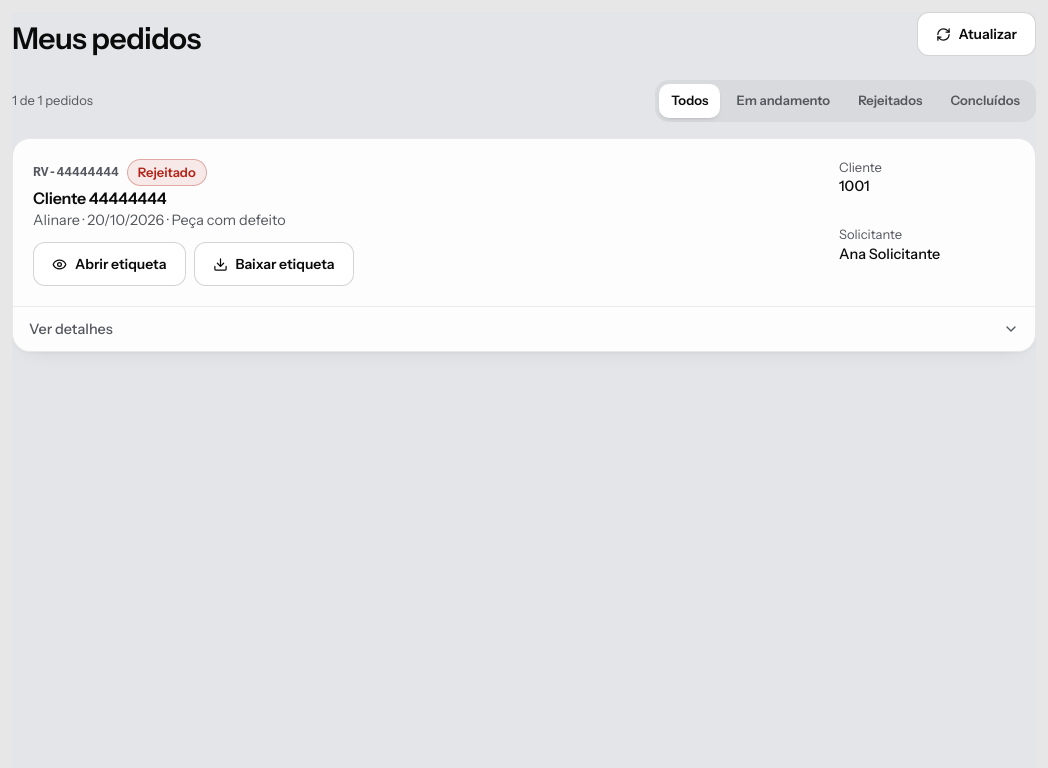
Test: MeusPedidosPage › exibe rejeitado legado pela justificativa e permite consultar etiqueta sem permissão de emissão
Click the heading "Ver detalhes" at (71,329), box [29,320,1019,338]
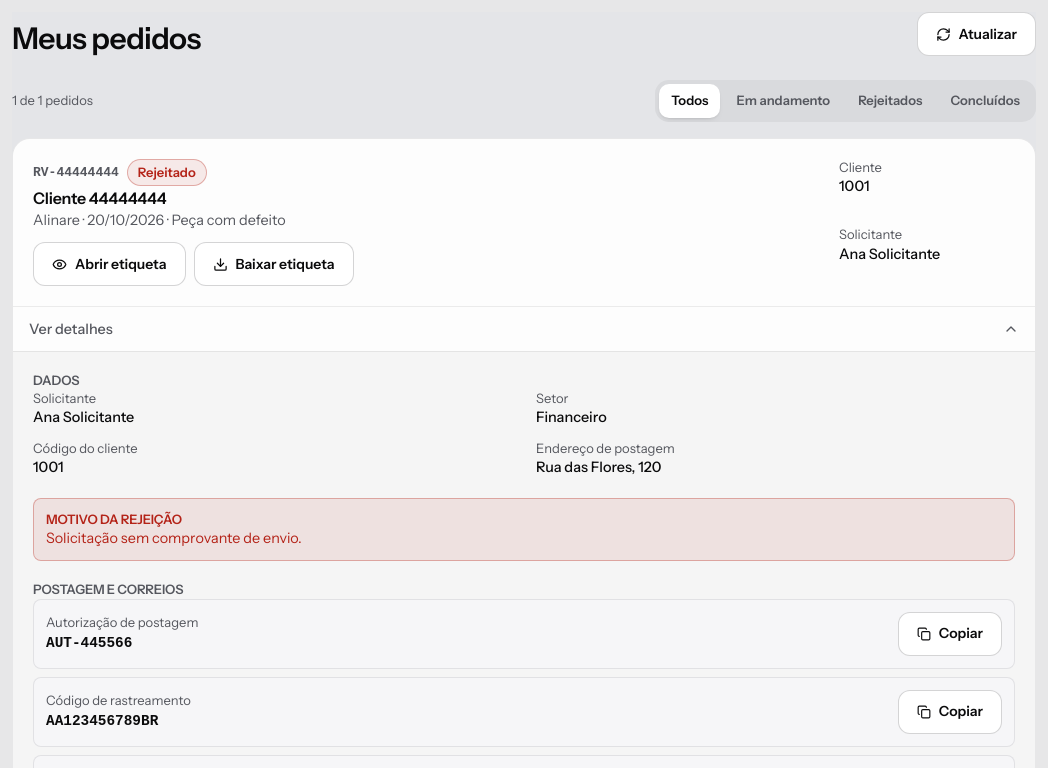
Expected: the text "Solicitação sem comprovante de envio." is shown, [46,529,302,547]
Expected: the text "AUT-445566" is shown, [46,635,132,651]
Expected: the button with aria-label "Copiar código de rastreamento" is shown, [898,690,1002,734]
